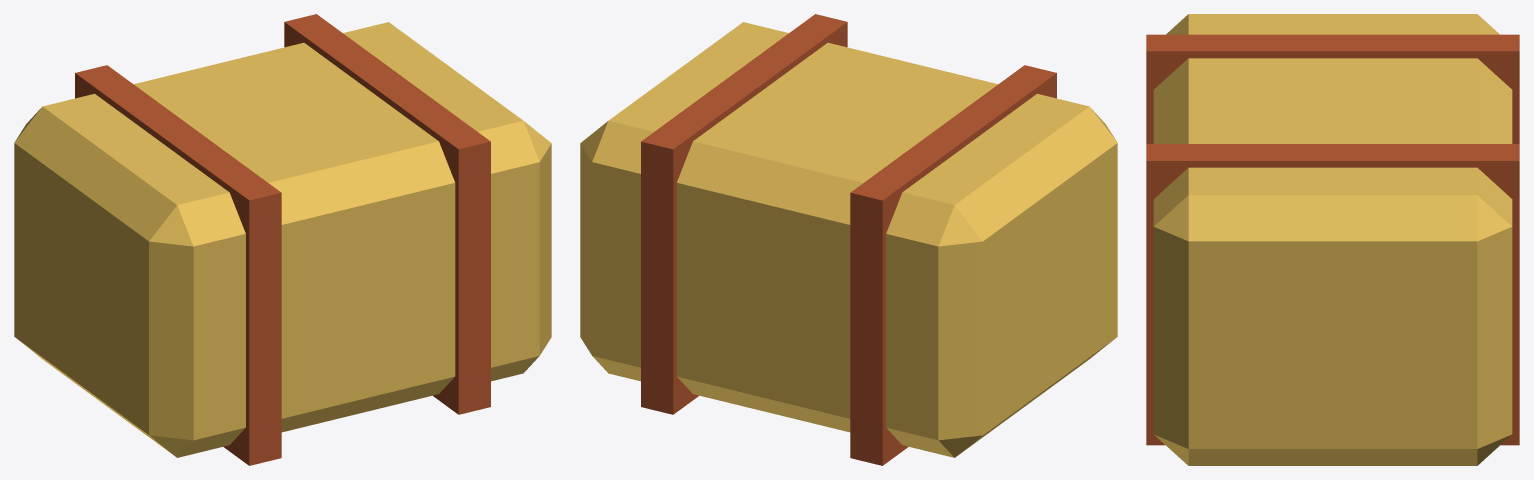
The model's file is Saman_Model.fbx.
3 views of the same model, side by side, from view 1: azimuth 30°, elevation 25°; view 2: azimuth 150°, elevation 25°; view 3: azimuth 270°, elevation 25° (orthographic). The views are drawn at different scales.
Visible parts, largest first — view 1: Saman_Model; view 2: Saman_Model; view 3: Saman_Model.
Part boxes in pixels (<box>): Saman_Model: <box>14,14,551,465</box>; Saman_Model: <box>580,14,1117,465</box>; Saman_Model: <box>1146,14,1519,465</box>.
Size of the model in its own units: 50 by 31.5 by 37.5.
